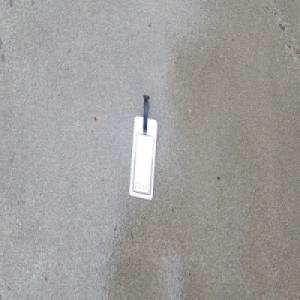LuggageTag: (128, 94, 158, 200)
